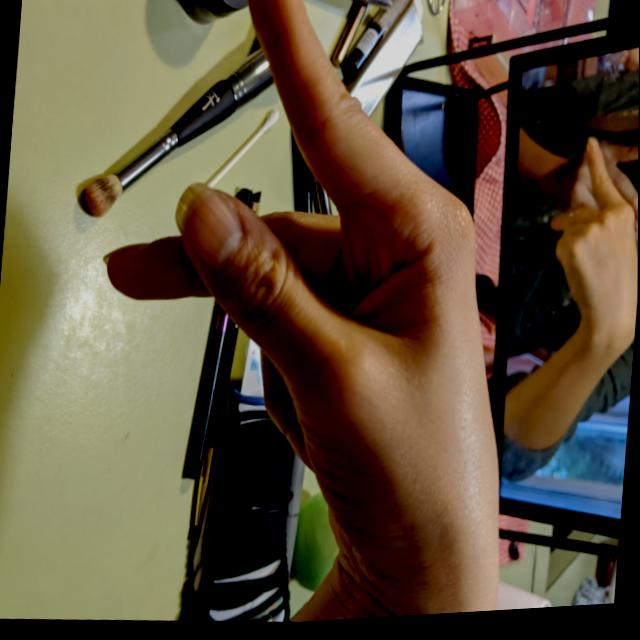P: (71, 0, 557, 627)
